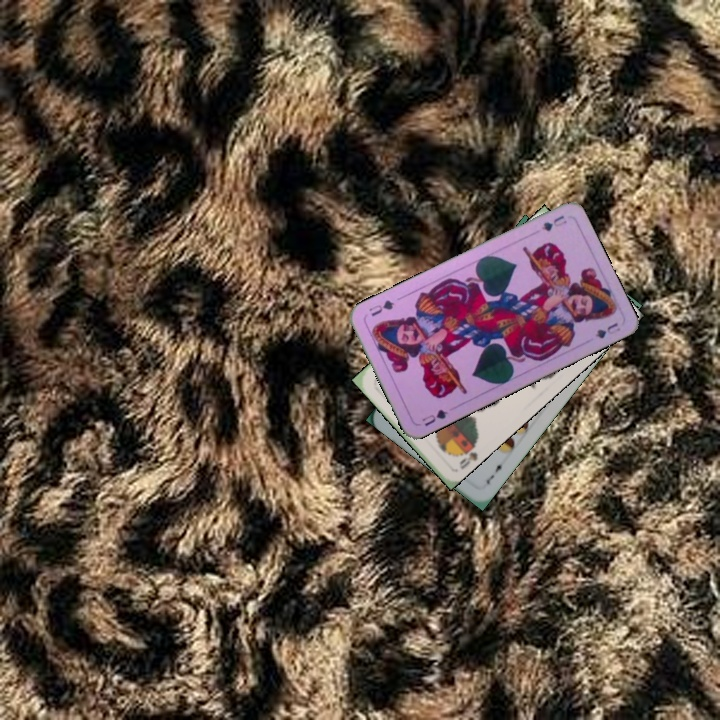E7: (482, 457, 508, 487)
GU: (418, 405, 451, 429), (538, 211, 570, 234)
SO: (455, 435, 480, 472)
